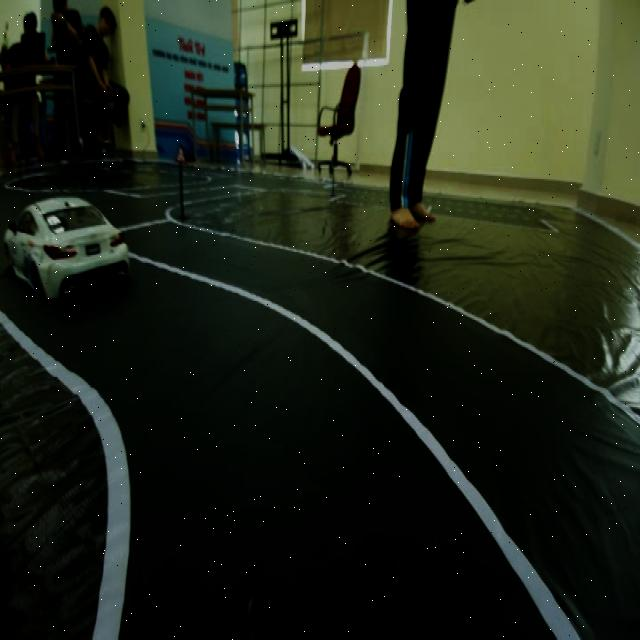car: (7, 185, 134, 327)
